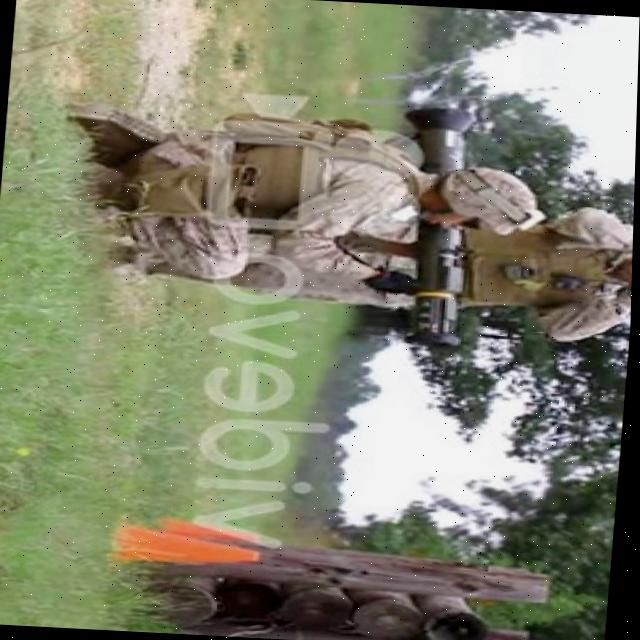rocket: (384, 108, 481, 348)
